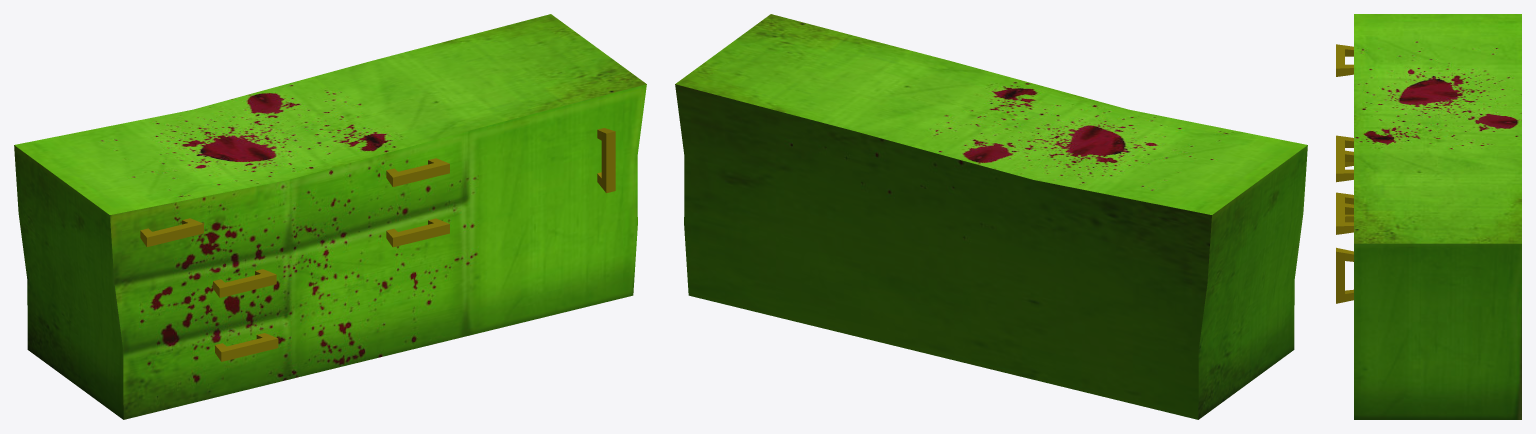
File: cabinet.FBX
3 renders of one model, left to right at view 1: azimuth 30°, elevation 25°; view 2: azimuth 150°, elevation 25°; view 3: azimuth 270°, elevation 25°, orthographic. The views are drawn at different scales.
Visible parts, largest first — view 1: Box002; view 2: Box002; view 3: Box002.
Part boxes in pixels (<box>): Box002: <box>14,14,646,419</box>; Box002: <box>675,14,1307,419</box>; Box002: <box>1336,14,1521,419</box>.
Bounding box in the file's own units: 116 × 42.8 × 39.55.
1 material, 1 textured.
